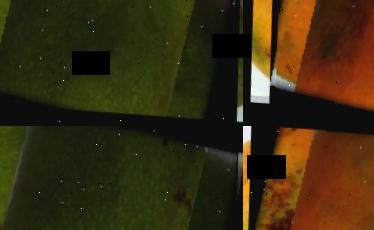PartiallyRipe: (243, 126, 374, 230)
Ripe: (264, 0, 374, 126)
Unripe: (0, 0, 243, 125), (0, 126, 243, 230)
